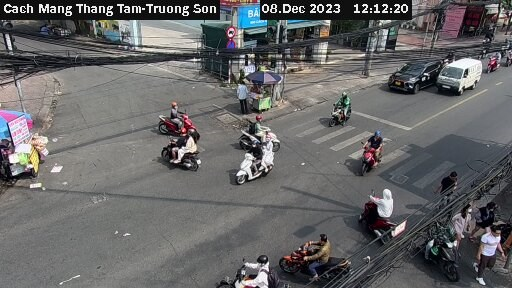car: (389, 55, 443, 94), (436, 55, 486, 97)
motorbike: (280, 236, 365, 280), (418, 220, 472, 279), (158, 129, 215, 179), (351, 187, 403, 234), (225, 254, 289, 288), (231, 141, 279, 186), (239, 108, 294, 147), (351, 132, 397, 176), (151, 98, 202, 133), (322, 88, 369, 124), (485, 50, 504, 73)
